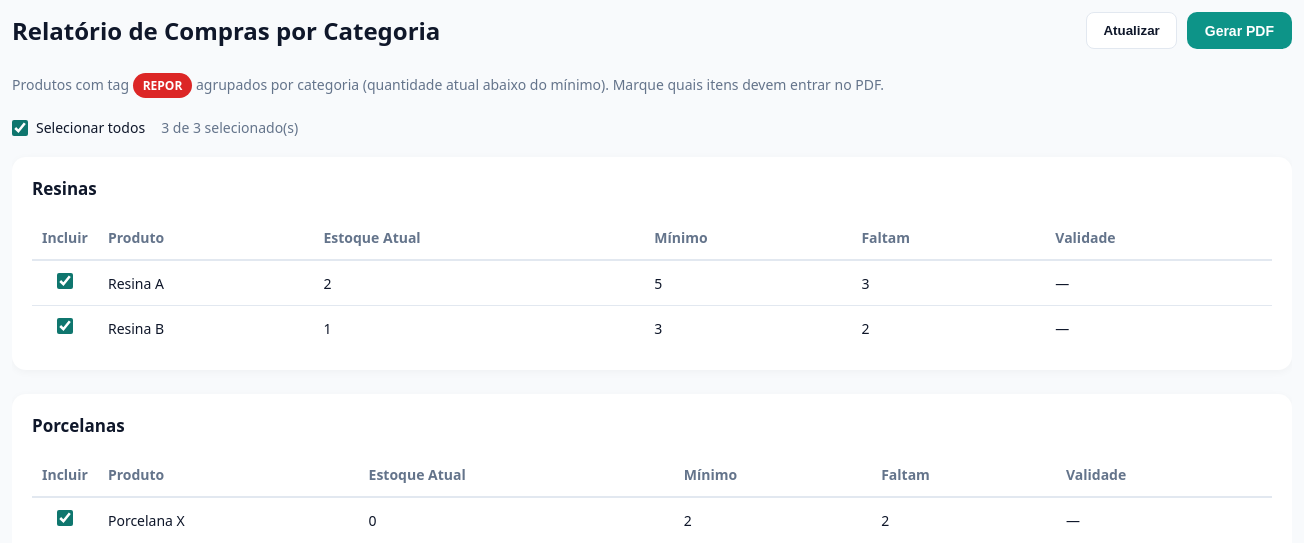
Test: RelatorioCompras › selecionar todos marca e desmarca tudo
Check: the text "Resina A" is shown, box [98,260,313,306]
Click the checkbox labelled "Selecionar todos" at (20, 128), box [12,120,28,136]
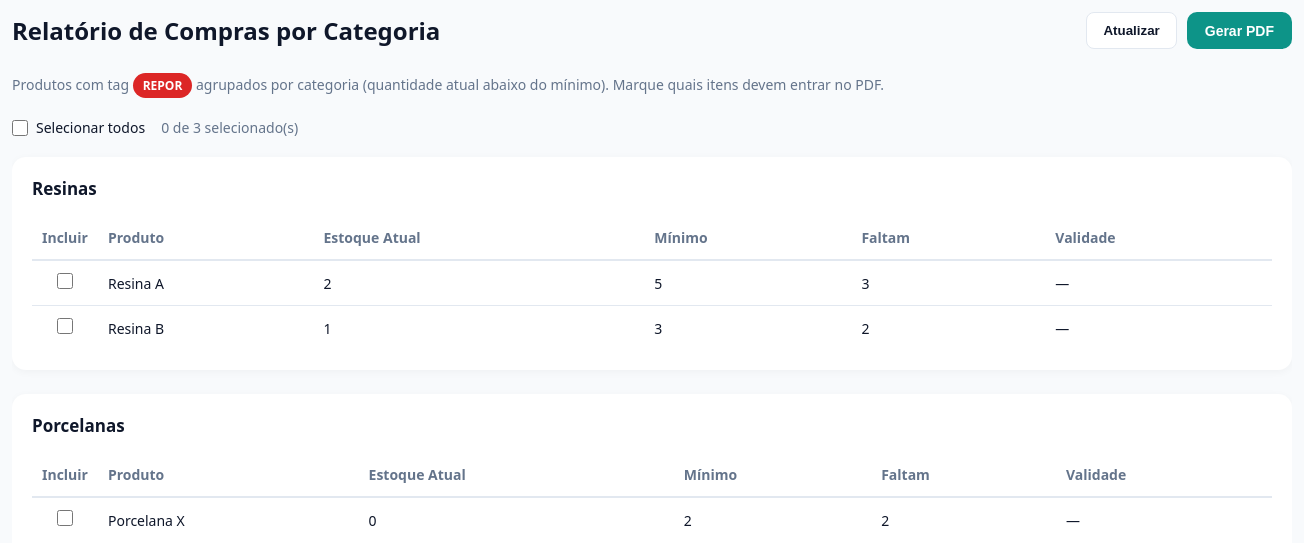
Check: the text "0 de 3 selecionado(s)" is shown, box [161,118,298,137]
Click the checkbox labelled "Selecionar todos" at (20, 128), box [12,120,28,136]
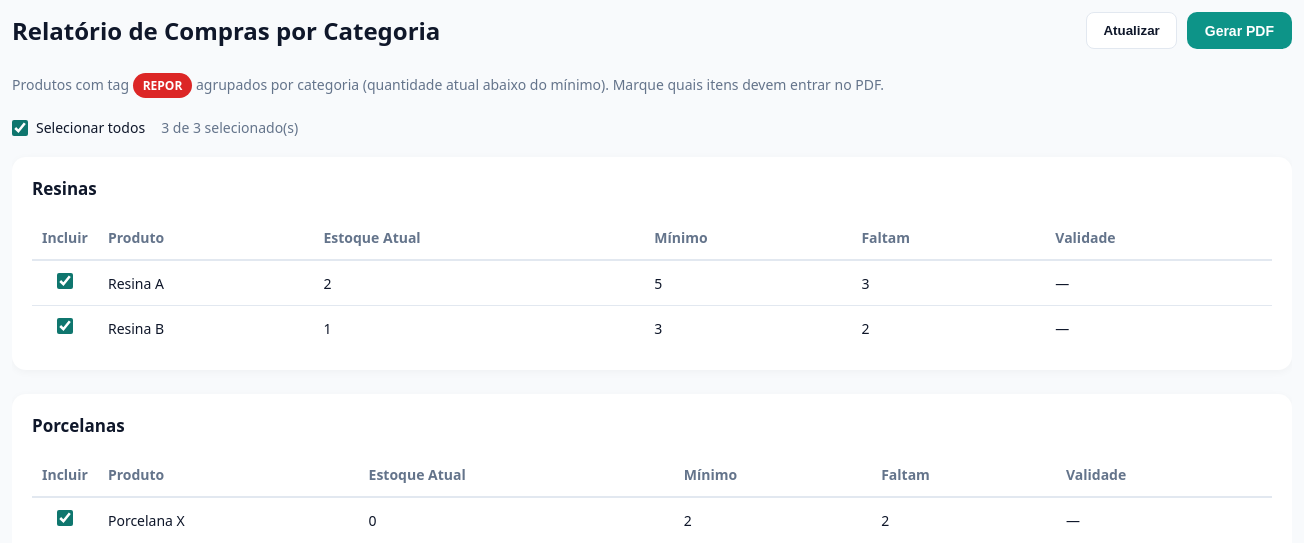
Check: the text "3 de 3 selecionado(s)" is shown, box [161,118,298,137]
